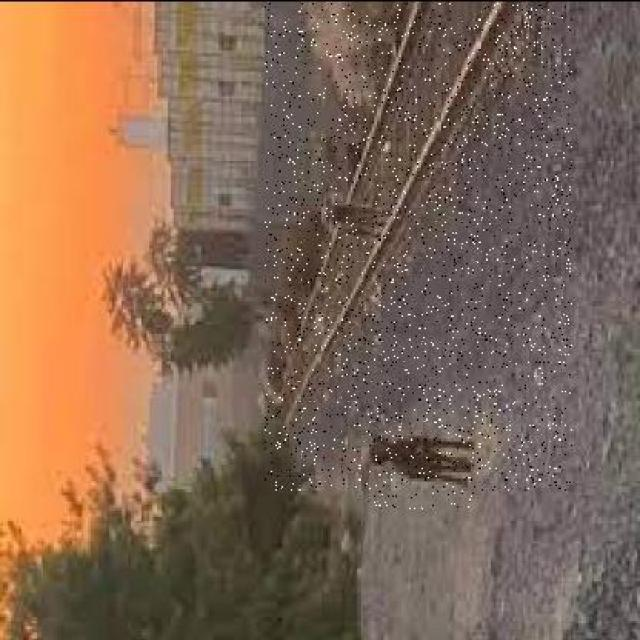danger: (363, 420, 474, 508), (306, 177, 402, 246)
rail: (267, 2, 572, 488)
